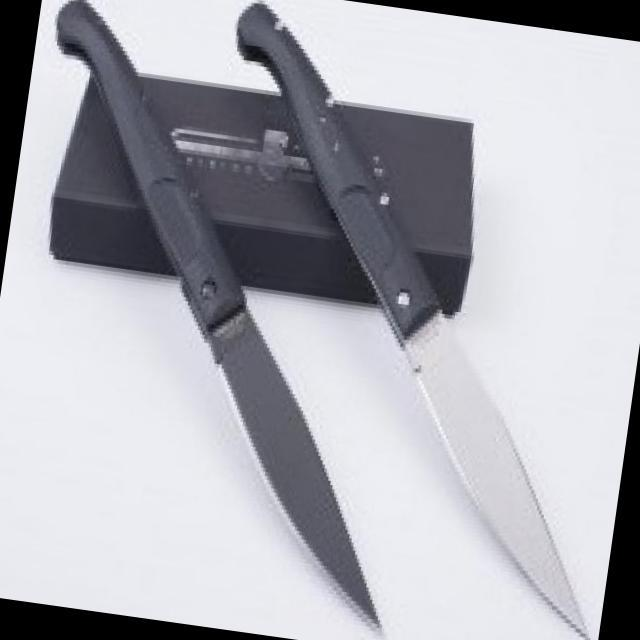Knife: (365, 298, 640, 640), (172, 306, 423, 636)
